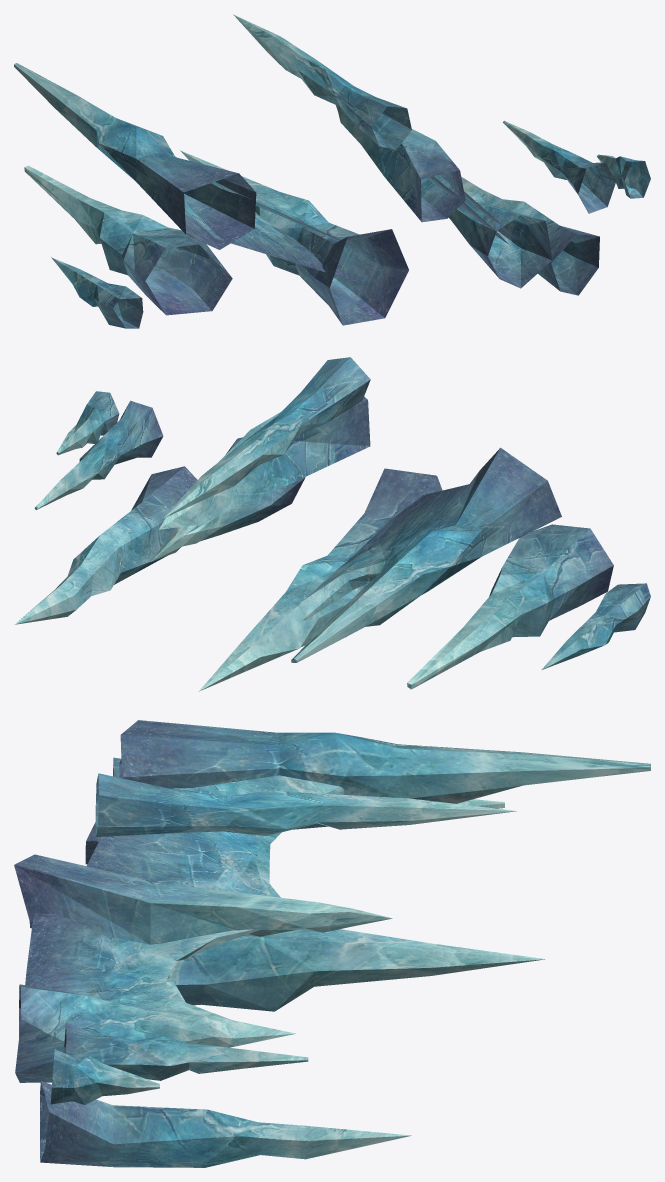
The model's file is huodong_fuben_660_bingzhui02.obj.
3 renders of one model, top to bottom at view 1: azimuth 30°, elevation 25°; view 2: azimuth 150°, elevation 25°; view 3: azimuth 270°, elevation 25°, orthographic. The views are drawn at different scales.
Visible parts, largest first — view 1: ????????????1??????; view 2: ????????????1??????; view 3: ????????????1??????.
Part boxes in pixels (left/top/right/bottom): ????????????1??????: left=14, top=14, right=650, bottom=328; ????????????1??????: left=14, top=357, right=650, bottom=691; ????????????1??????: left=14, top=720, right=650, bottom=1167.
Bounding box in the file's own units: 284 × 114 × 231.
1 material, 1 textured.
